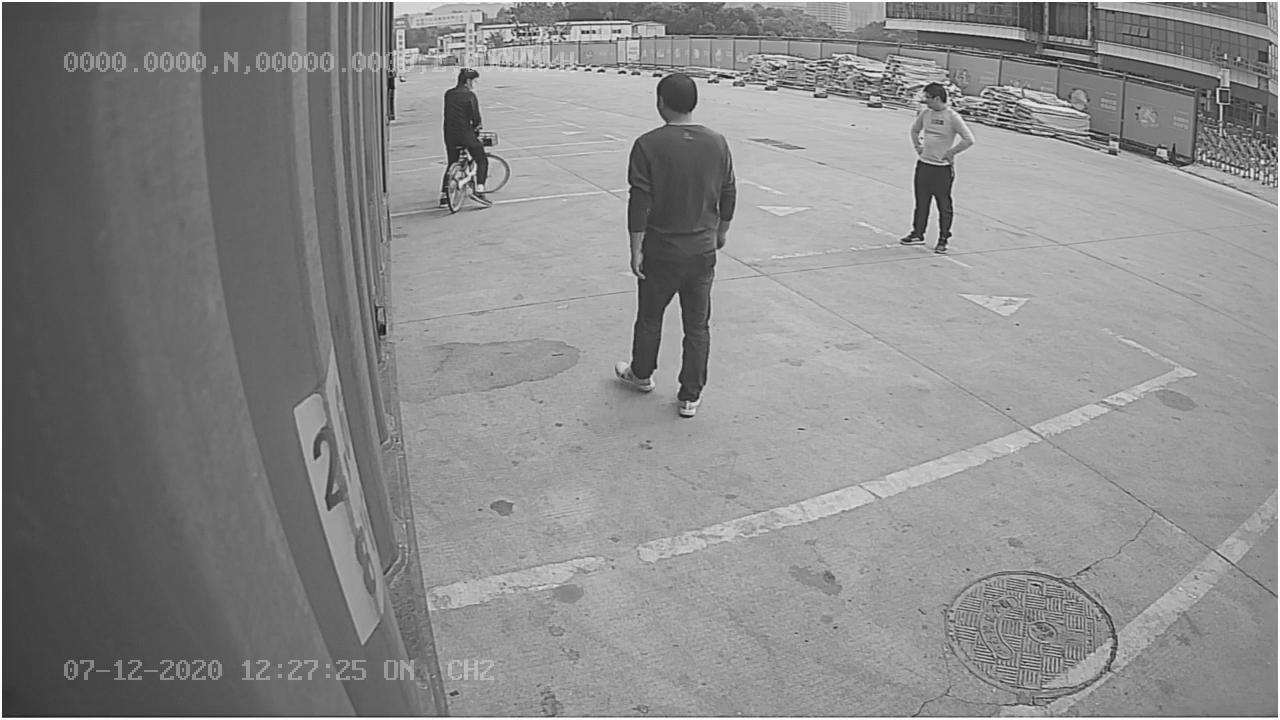person: (609, 67, 744, 428)
